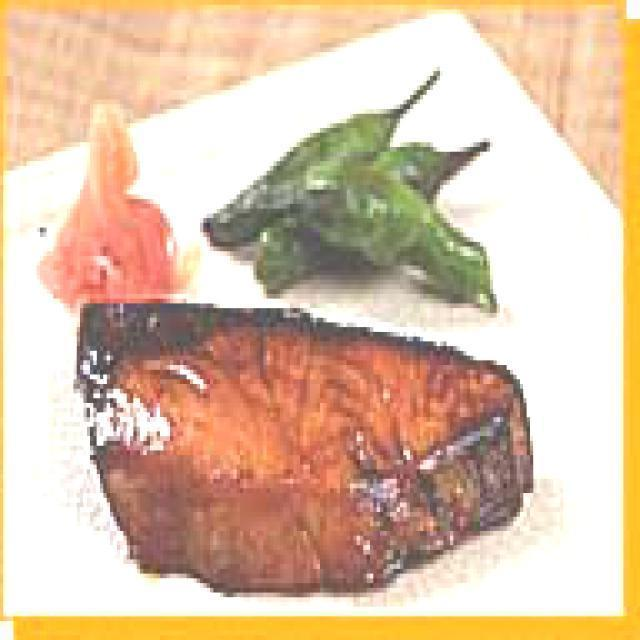teriyaki-grilled-fish: (47, 252, 540, 598)
